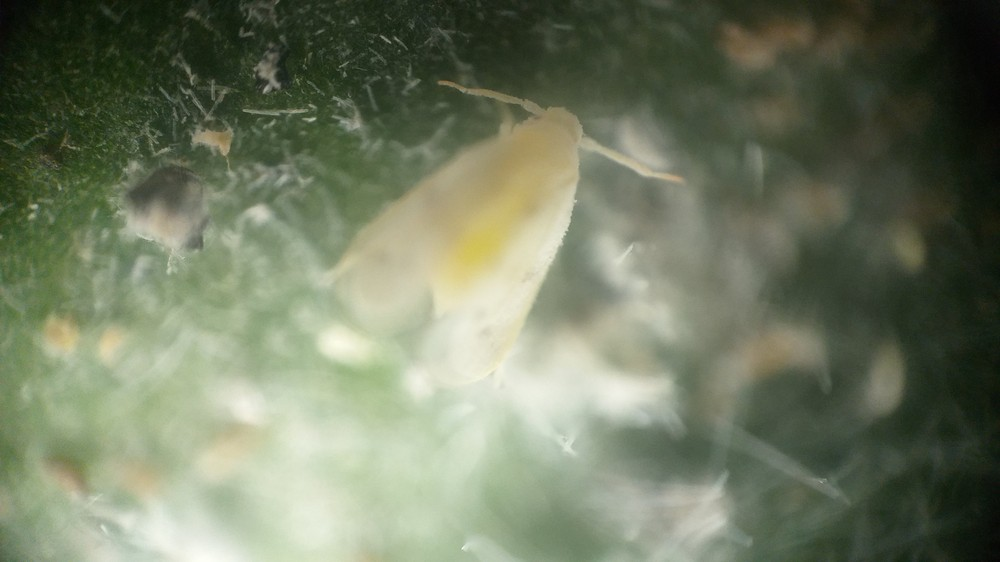Mosca Blanca: (323, 62, 696, 399)
